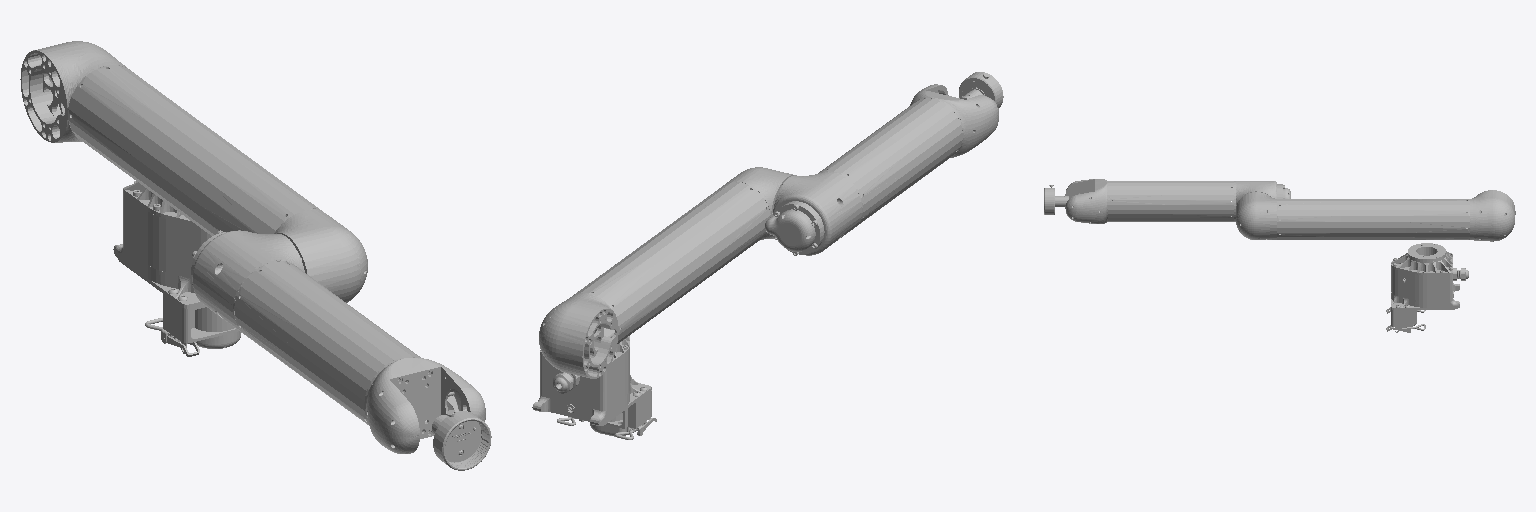
The robot description file, URDF, robot "mr1718-arm-urdf_export":
<robot
  name="mr1718-arm-urdf_export">
  <link
    name="base_link">
    <inertial>
      <origin
        xyz="5.4755E-05 0.015543 0.0086991"
        rpy="0 0 0" />
      <mass
        value="1.5519" />
      <inertia
        ixx="0.0045029"
        ixy="-1.9571E-05"
        ixz="1.1071E-05"
        iyy="0.001083"
        iyz="0.0012614"
        izz="0.0038307" />
    </inertial>
    <visual>
      <origin
        xyz="0 0 0"
        rpy="0 0 0" />
      <geometry>
        <mesh
          filename="package://mr1718-arm-urdf_export/meshes/base_link.STL" />
      </geometry>
      <material
        name="">
        <color
          rgba="0.75294 0.75294 0.75294 1" />
      </material>
    </visual>
    <collision>
      <origin
        xyz="0 0 0"
        rpy="0 0 0" />
      <geometry>
        <mesh
          filename="package://mr1718-arm-urdf_export/meshes/base_link.STL" />
      </geometry>
    </collision>
  </link>
  <link
    name="shoulder_link">
    <inertial>
      <origin
        xyz="-0.0076779 0.072439 -0.00025927"
        rpy="0 0 0" />
      <mass
        value="1.2323" />
      <inertia
        ixx="0.00071817"
        ixy="8.2844E-05"
        ixz="4.663E-06"
        iyy="0.0012756"
        iyz="3.6626E-06"
        izz="0.0019919" />
    </inertial>
    <visual>
      <origin
        xyz="0 0 0"
        rpy="0 0 0" />
      <geometry>
        <mesh
          filename="package://mr1718-arm-urdf_export/meshes/shoulder_link.STL" />
      </geometry>
      <material
        name="">
        <color
          rgba="0.75294 0.75294 0.75294 1" />
      </material>
    </visual>
    <collision>
      <origin
        xyz="0 0 0"
        rpy="0 0 0" />
      <geometry>
        <mesh
          filename="package://mr1718-arm-urdf_export/meshes/shoulder_link.STL" />
      </geometry>
    </collision>
  </link>
  <joint
    name="shoulder"
    type="continuous">
    <origin
      xyz="0 0.0025248 0.091246"
      rpy="1.5708 0 0" />
    <parent
      link="base_link" />
    <child
      link="shoulder_link" />
    <axis
      xyz="0 1 0" />
  </joint>
  <link
    name="elbow_link">
    <inertial>
      <origin
        xyz="0.052746 3.5254E-06 0.25018"
        rpy="0 0 0" />
      <mass
        value="1.5164" />
      <inertia
        ixx="0.082218"
        ixy="3.201E-09"
        ixz="0.00060003"
        iyy="0.082526"
        iyz="-8.6916E-07"
        izz="0.00030787" />
    </inertial>
    <visual>
      <origin
        xyz="0 0 0"
        rpy="0 0 0" />
      <geometry>
        <mesh
          filename="package://mr1718-arm-urdf_export/meshes/elbow_link.STL" />
      </geometry>
      <material
        name="">
        <color
          rgba="0.75294 0.75294 0.75294 1" />
      </material>
    </visual>
    <collision>
      <origin
        xyz="0 0 0"
        rpy="0 0 0" />
      <geometry>
        <mesh
          filename="package://mr1718-arm-urdf_export/meshes/elbow_link.STL" />
      </geometry>
    </collision>
  </link>
  <joint
    name="elbow"
    type="continuous">
    <origin
      xyz="0.0335058907562339 0.0827436823988177 0"
      rpy="0 0 0" />
    <parent
      link="shoulder_link" />
    <child
      link="elbow_link" />
    <axis
      xyz="1 0 0" />
  </joint>
  <link
    name="roll_link">
    <inertial>
      <origin
        xyz="-0.030978 -3.4831E-06 -0.0054534"
        rpy="0 0 0" />
      <mass
        value="1.0721" />
      <inertia
        ixx="0.00049287"
        ixy="3.3206E-08"
        ixz="-3.6397E-06"
        iyy="0.00051016"
        iyz="-4.5289E-08"
        izz="2.4367E-05" />
    </inertial>
    <visual>
      <origin
        xyz="0 0 0"
        rpy="0 0 0" />
      <geometry>
        <mesh
          filename="package://mr1718-arm-urdf_export/meshes/roll_link.STL" />
      </geometry>
      <material
        name="">
        <color
          rgba="0.75294 0.75294 0.75294 1" />
      </material>
    </visual>
    <collision>
      <origin
        xyz="0 0 0"
        rpy="0 0 0" />
      <geometry>
        <mesh
          filename="package://mr1718-arm-urdf_export/meshes/roll_link.STL" />
      </geometry>
    </collision>
  </link>
  <joint
    name="roll"
    type="continuous">
    <origin
      xyz="0 0 0.523621"
      rpy="0 0 0" />
    <parent
      link="elbow_link" />
    <child
      link="roll_link" />
    <axis
      xyz="1 0 0" />
  </joint>
  <link
    name="wrist_link">
    <inertial>
      <origin
        xyz="-0.00095192 -4.7142E-05 0.25454"
        rpy="0 0 0" />
      <mass
        value="0.60759" />
      <inertia
        ixx="0.0039577"
        ixy="4.5025E-07"
        ixz="5.7684E-05"
        iyy="0.0042265"
        iyz="1.2153E-06"
        izz="0.00026882" />
    </inertial>
    <visual>
      <origin
        xyz="0 0 0"
        rpy="0 0 0" />
      <geometry>
        <mesh
          filename="package://mr1718-arm-urdf_export/meshes/wrist_link.STL" />
      </geometry>
      <material
        name="">
        <color
          rgba="0.75294 0.75294 0.75294 1" />
      </material>
    </visual>
    <collision>
      <origin
        xyz="0 0 0"
        rpy="0 0 0" />
      <geometry>
        <mesh
          filename="package://mr1718-arm-urdf_export/meshes/wrist_link.STL" />
      </geometry>
    </collision>
  </link>
  <joint
    name="wrist_base"
    type="continuous">
    <origin
      xyz="-0.0345081407562338 0 0.048642197732"
      rpy="0 0 0" />
    <parent
      link="roll_link" />
    <child
      link="wrist_link" />
    <axis
      xyz="0 0 1" />
  </joint>
  <link
    name="wrist_pitch_link">
    <inertial>
      <origin
        xyz="0.00095959 0.00027042 0.014957"
        rpy="0 0 0" />
      <mass
        value="0.32143" />
      <inertia
        ixx="0.00011388"
        ixy="-2.4963E-06"
        ixz="2.1367E-06"
        iyy="0.00018114"
        iyz="1.3277E-06"
        izz="6.9395E-05" />
    </inertial>
    <visual>
      <origin
        xyz="0 0 0"
        rpy="0 0 0" />
      <geometry>
        <mesh
          filename="package://mr1718-arm-urdf_export/meshes/wrist_pitch_link.STL" />
      </geometry>
      <material
        name="">
        <color
          rgba="0.75294 0.75294 0.75294 1" />
      </material>
    </visual>
    <collision>
      <origin
        xyz="0 0 0"
        rpy="0 0 0" />
      <geometry>
        <mesh
          filename="package://mr1718-arm-urdf_export/meshes/wrist_pitch_link.STL" />
      </geometry>
    </collision>
  </link>
  <joint
    name="wrist_pitch"
    type="continuous">
    <origin
      xyz="0 0 0.343027"
      rpy="0 0 0" />
    <parent
      link="wrist_link" />
    <child
      link="wrist_pitch_link" />
    <axis
      xyz="1 0 0" />
  </joint>
  <link
    name="wrist_roll_link">
    <inertial>
      <origin
        xyz="-3.3391E-05 7.6495E-05 0.034573"
        rpy="0 0 0" />
      <mass
        value="0.090203" />
      <inertia
        ixx="4.2212E-06"
        ixy="9.452E-08"
        ixz="1.6547E-08"
        iyy="3.9599E-06"
        iyz="-5.2152E-08"
        izz="3.8149E-07" />
    </inertial>
    <visual>
      <origin
        xyz="0 0 0"
        rpy="0 0 0" />
      <geometry>
        <mesh
          filename="package://mr1718-arm-urdf_export/meshes/wrist_roll_link.STL" />
      </geometry>
      <material
        name="">
        <color
          rgba="0.75294 0.75294 0.75294 1" />
      </material>
    </visual>
    <collision>
      <origin
        xyz="0 0 0"
        rpy="0 0 0" />
      <geometry>
        <mesh
          filename="package://mr1718-arm-urdf_export/meshes/wrist_roll_link.STL" />
      </geometry>
    </collision>
  </link>
  <joint
    name="wrist_roll"
    type="continuous">
    <origin
      xyz="0 0 0.0227193855733502"
      rpy="0 0 0" />
    <parent
      link="wrist_pitch_link" />
    <child
      link="wrist_roll_link" />
    <axis
      xyz="0 0 1" />
  </joint>
</robot>

--- Facts derived from the render (not from the file) ---
3 views of the same robot in one strip: view 1: azimuth 30°, elevation 25°; view 2: azimuth 150°, elevation 25°; view 3: azimuth 270°, elevation 25° (orthographic).
Robot: mr1718-arm-urdf_export — 7 links, 6 joints (6 continuous); root link base_link; default pose: every joint at zero.
Links seen in each view (by area): view 1: elbow_link, wrist_link, base_link, roll_link, wrist_roll_link; view 2: elbow_link, wrist_link, base_link, roll_link, wrist_roll_link; view 3: elbow_link, wrist_link, base_link, roll_link.
Boxes of the visible links, x1,y1,x2,y2 form: elbow_link: (20,41,367,302); wrist_link: (234,261,485,453); base_link: (113,181,240,356); roll_link: (191,230,304,334); wrist_roll_link: (432,410,491,470); elbow_link: (539,167,793,378); wrist_link: (819,84,998,226); base_link: (532,336,656,439); roll_link: (765,171,862,255); wrist_roll_link: (959,72,1003,107); elbow_link: (1236,190,1515,241); wrist_link: (1065,179,1233,223); base_link: (1386,243,1468,332); roll_link: (1234,181,1290,221).
Size in the robot's own frame: 0.2687 by 1.04 by 0.2831 metres.
5 mesh visuals loaded from 7 distinct referenced files (5 binary STL); not drawn: 2 (reference not matched to a file when rendering).